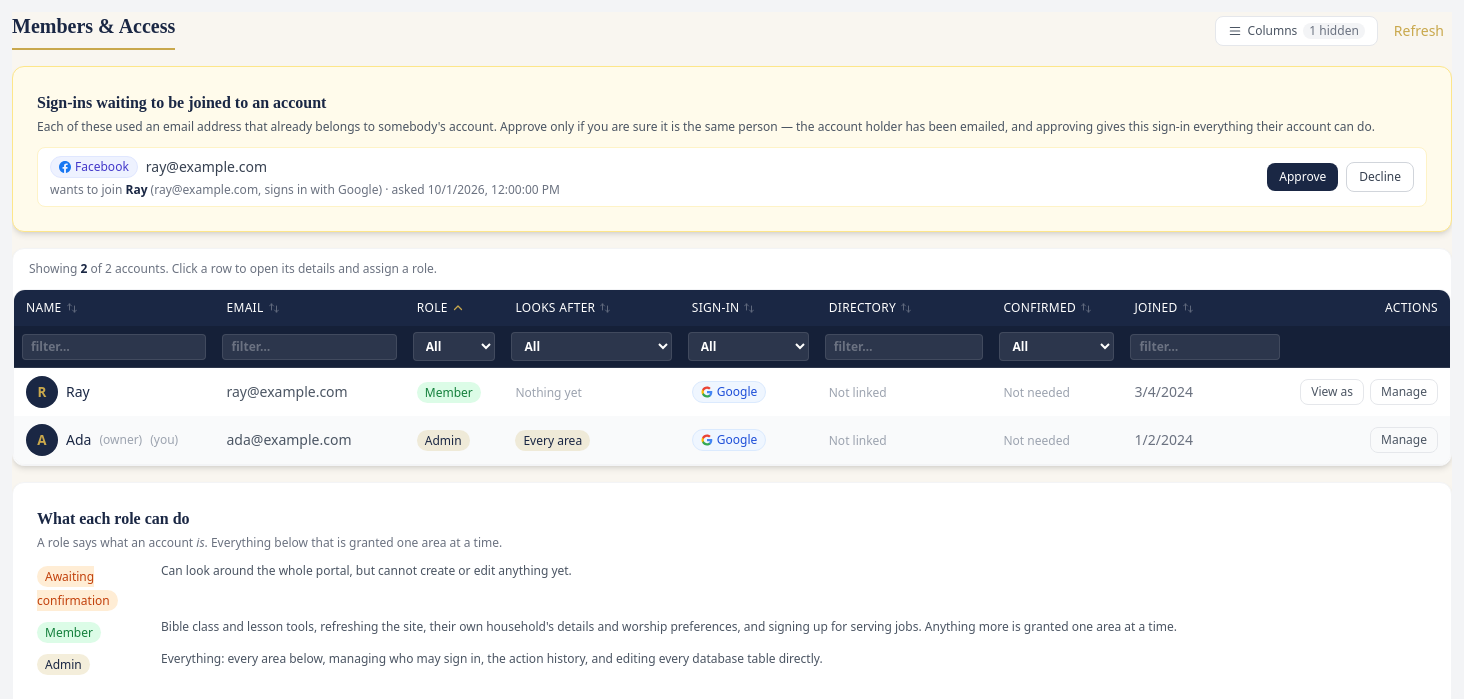
Test: UsersView — sign-ins waiting to be joined › approving sends the decision and takes the request off the list
Expected: the button with aria-label "Manage Ada" is shown, 1370,427 -> 1438,453
Click the button with aria-label "Approve Facebook sign-in for Ray" at (1303, 177), box 1267,163 -> 1338,191
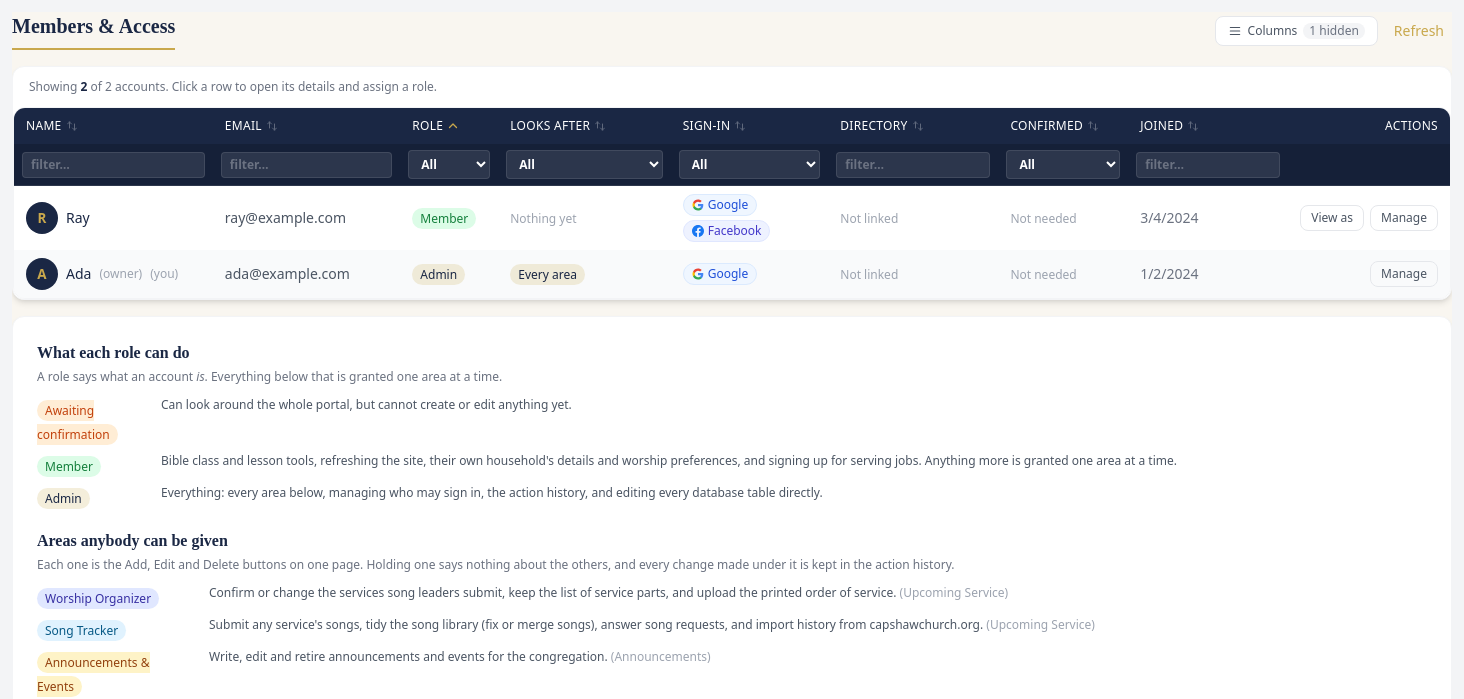
Expected: the text "Facebook" is shown, 683,220 -> 770,242
Result: the heading "Sign-ins waiting to be joined" is gone
